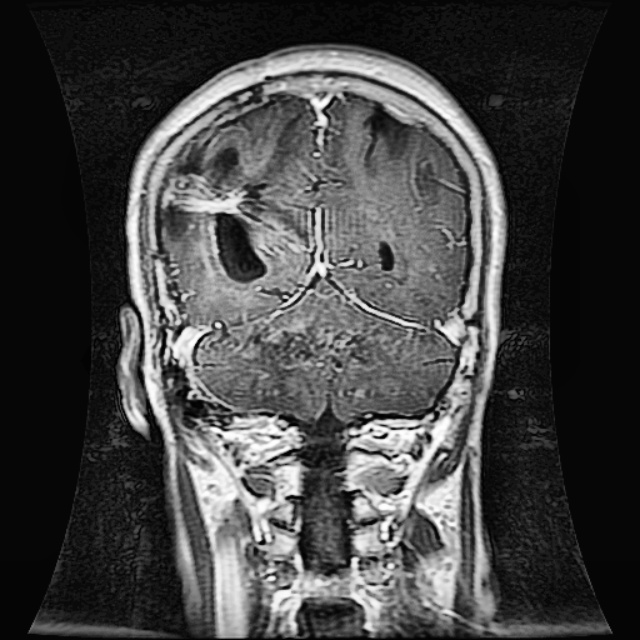Meningioma: (158, 120, 282, 284)
